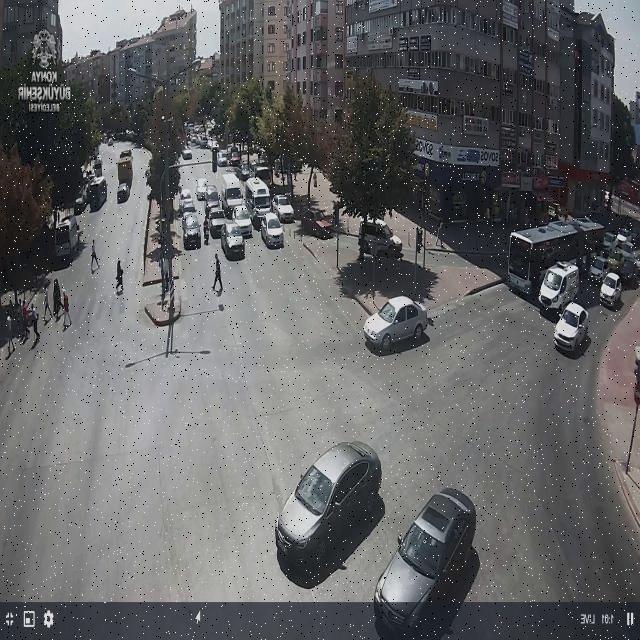Bus: (506, 218, 610, 293), (243, 176, 273, 218), (88, 175, 109, 212)
Car: (373, 487, 477, 633), (277, 440, 379, 566), (362, 293, 428, 349), (358, 215, 404, 259), (554, 303, 588, 352), (301, 209, 333, 239), (220, 224, 245, 258), (260, 213, 284, 248), (600, 272, 622, 307), (231, 205, 254, 238), (181, 214, 202, 248), (618, 252, 640, 282), (208, 208, 228, 238), (250, 198, 273, 224), (272, 195, 294, 222), (590, 255, 608, 279), (205, 189, 222, 214), (179, 188, 195, 213), (616, 227, 636, 246), (601, 232, 619, 251), (195, 178, 208, 200), (237, 164, 253, 180), (117, 182, 129, 202), (216, 153, 228, 166), (229, 153, 241, 166), (181, 148, 192, 160), (207, 139, 218, 151)
Van: (536, 262, 582, 314), (221, 172, 245, 210)
